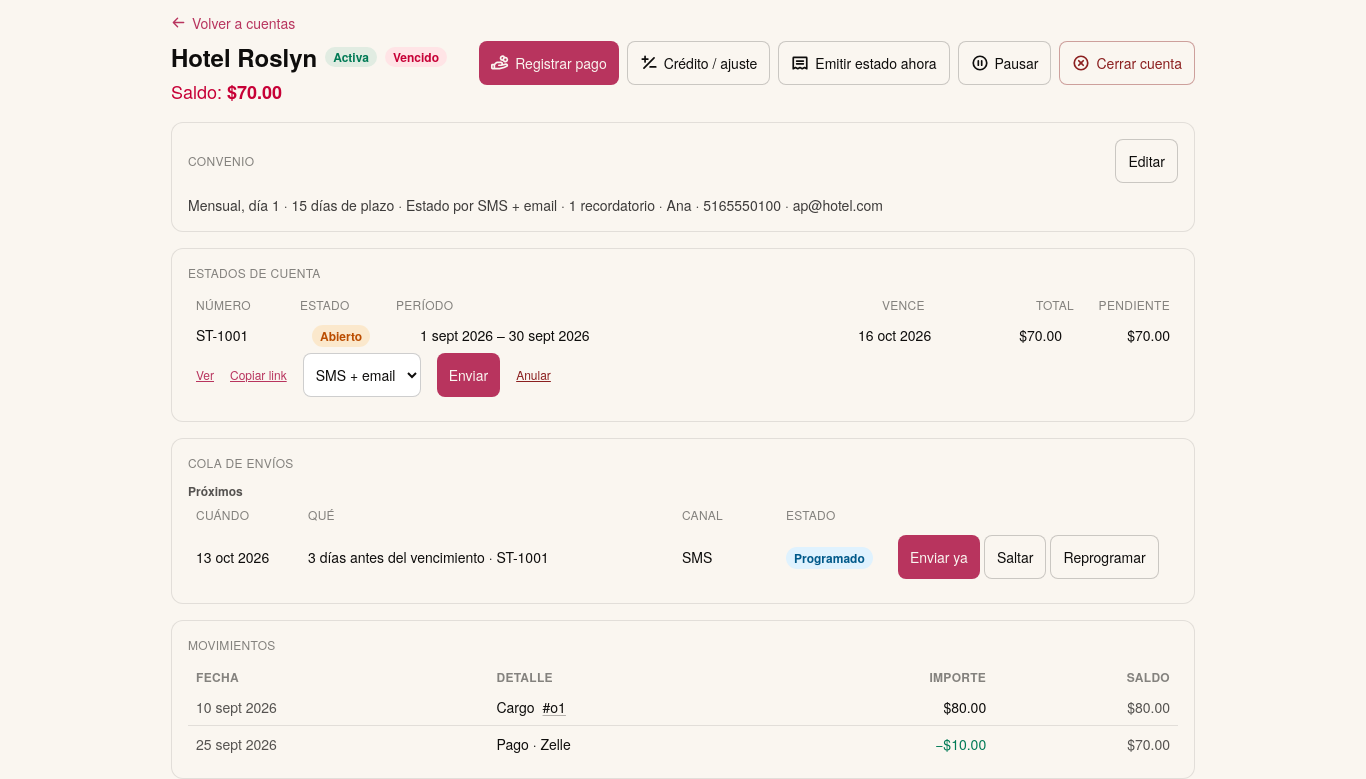
Test: AccountDetail › issuing a statement › treats a 200 whose send failed as a failure
What coordinates should you click on to do the following:
click the button "Emitir estado ahora"
I would click on:
 (864, 62)
Its box is [778, 40, 950, 84].
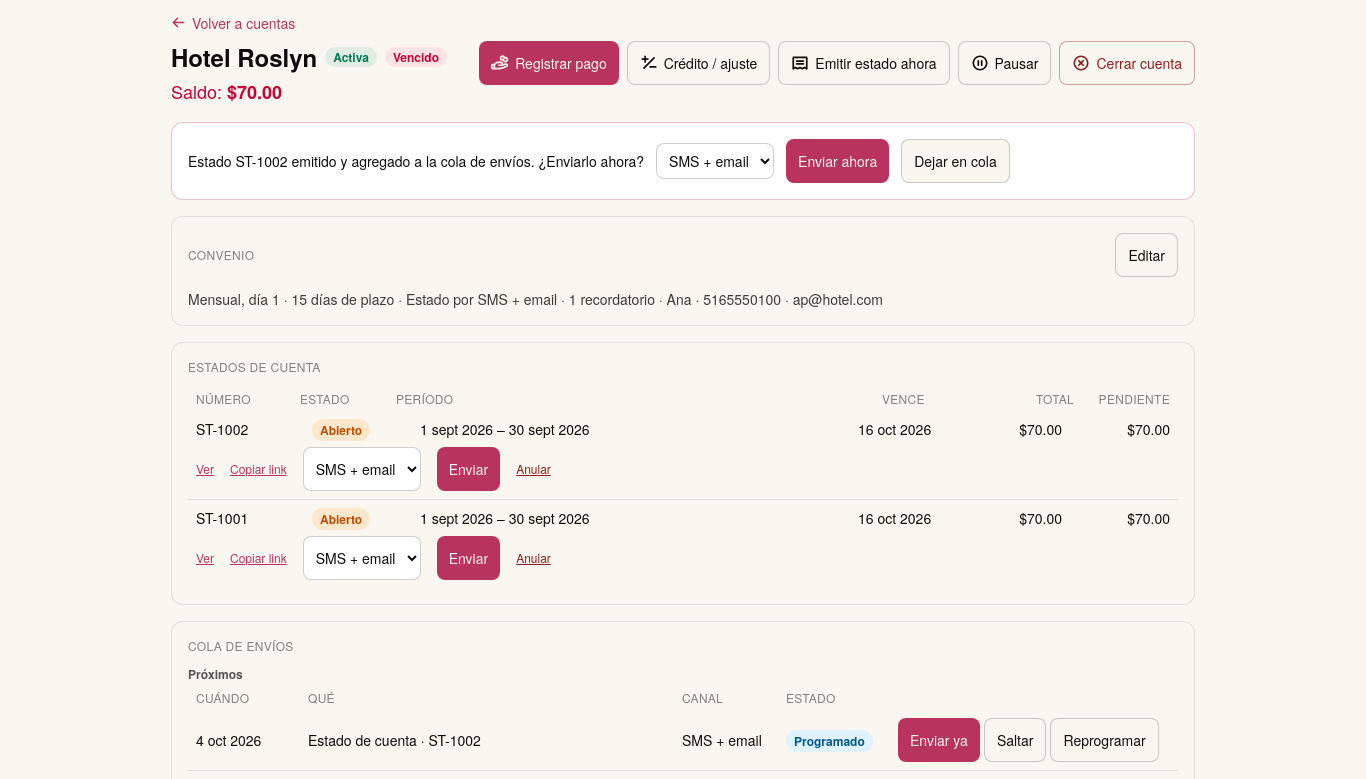
Result: the text "emitido y agregado a la cola de envíos" is shown at [188, 150, 644, 170]
What coordinates should you click on to do the following:
click the button "Enviar ahora"
I would click on:
 (838, 160)
Its box is [786, 138, 889, 182].
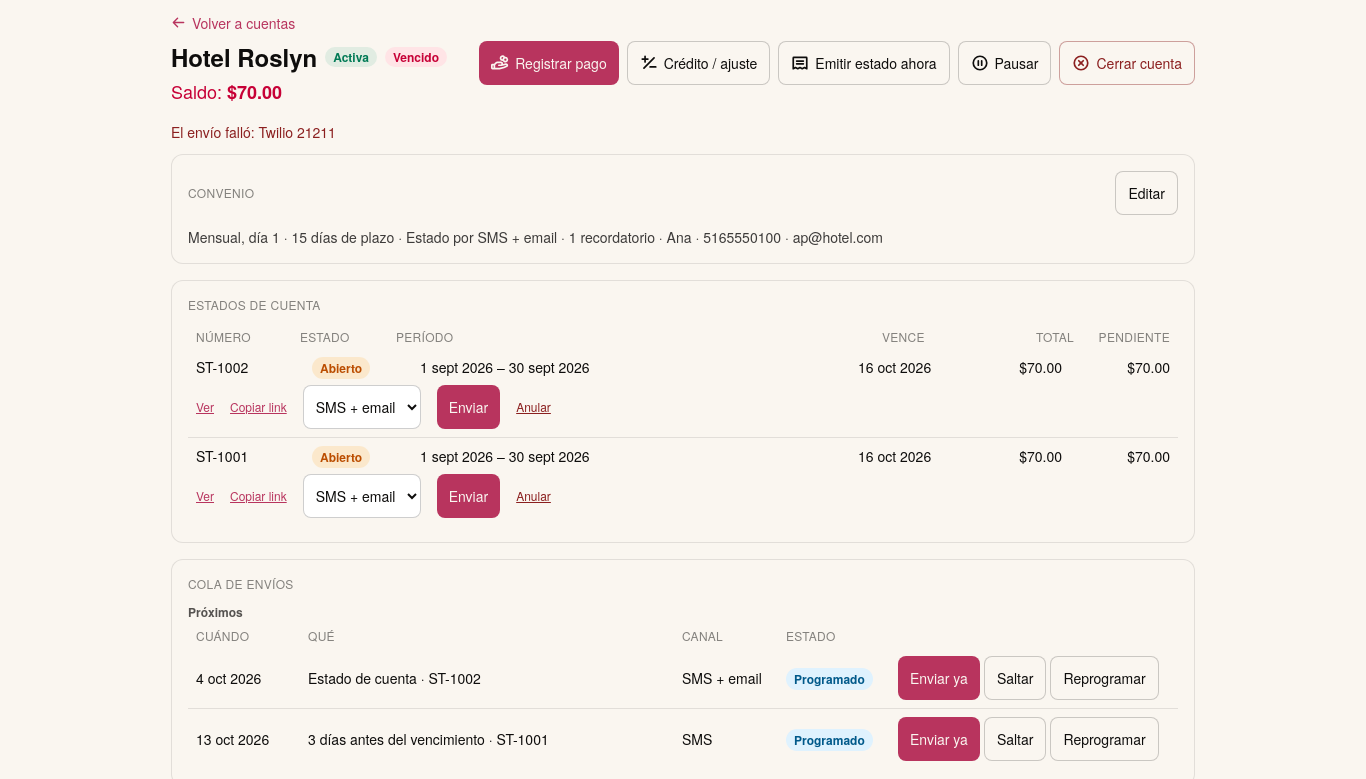
Result: the text "El envío falló: Twilio 21211" is shown at [171, 122, 336, 142]
